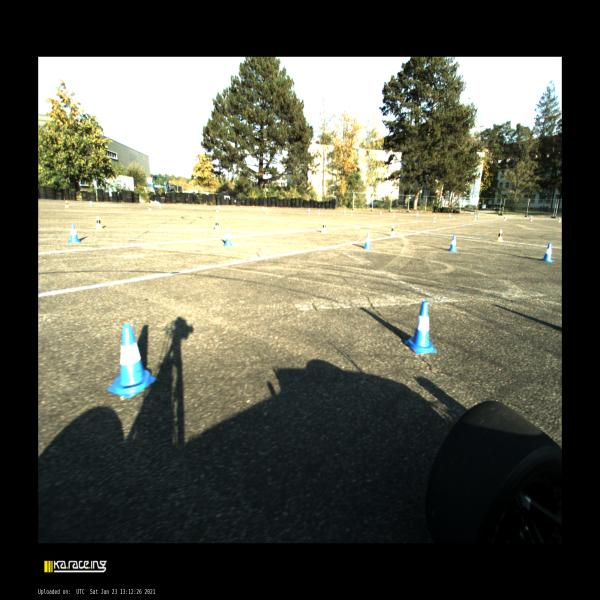blue_cone: (108, 324, 157, 398), (404, 301, 437, 353), (541, 244, 553, 262), (69, 224, 80, 242), (223, 228, 233, 246), (449, 235, 457, 252), (363, 232, 371, 249), (307, 208, 311, 213), (262, 206, 265, 212), (159, 203, 162, 209), (90, 200, 92, 206), (448, 214, 451, 218), (380, 211, 382, 216), (477, 214, 479, 219), (416, 212, 418, 216), (344, 210, 346, 214), (218, 206, 220, 210)
yellow_cone: (95, 216, 103, 230), (496, 230, 504, 241), (390, 224, 396, 236), (214, 219, 220, 231), (322, 221, 327, 233), (65, 200, 69, 208), (148, 204, 152, 210), (317, 209, 321, 215), (265, 207, 268, 213), (350, 210, 353, 215), (392, 212, 395, 217), (433, 214, 436, 219), (558, 217, 561, 222), (216, 207, 219, 212), (530, 216, 532, 222), (474, 215, 476, 220), (504, 216, 506, 221)
